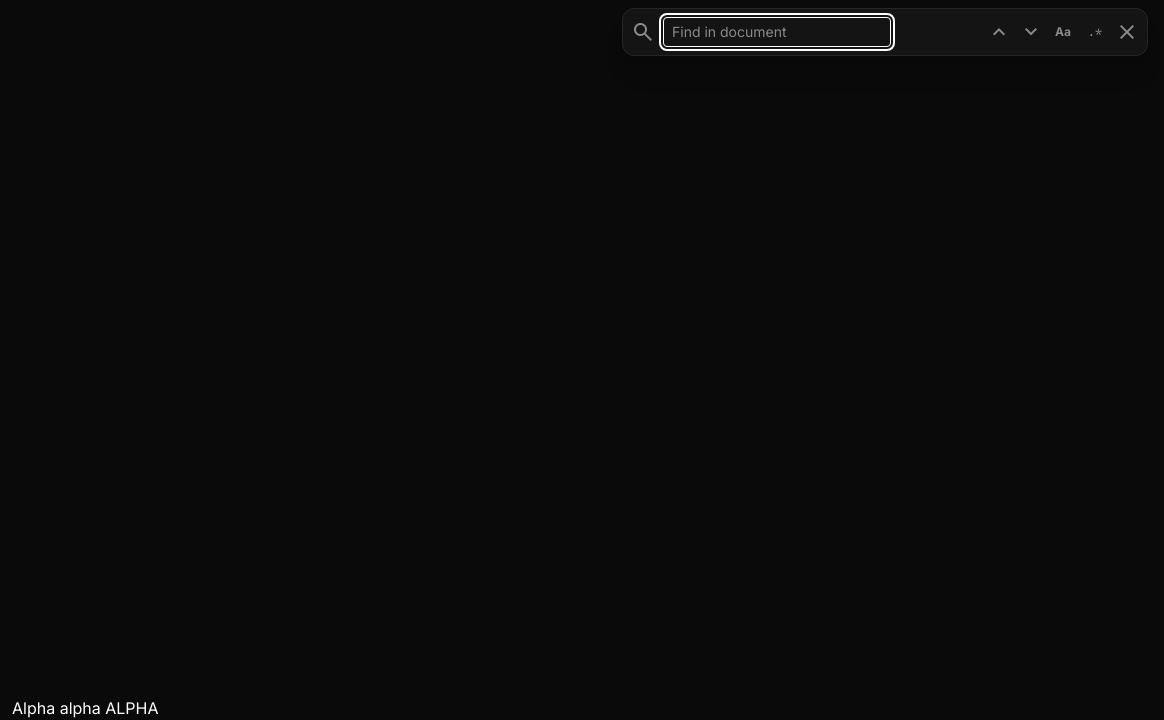
Scenario: PreviewFindBar options › treats the query as a pattern when Regex is pressed
The image size is (1164, 720).
Step 1. Type "\\d+" into the field labelled "Find in document" → (777, 32), box [663, 17, 891, 47]
Wait 200 ms
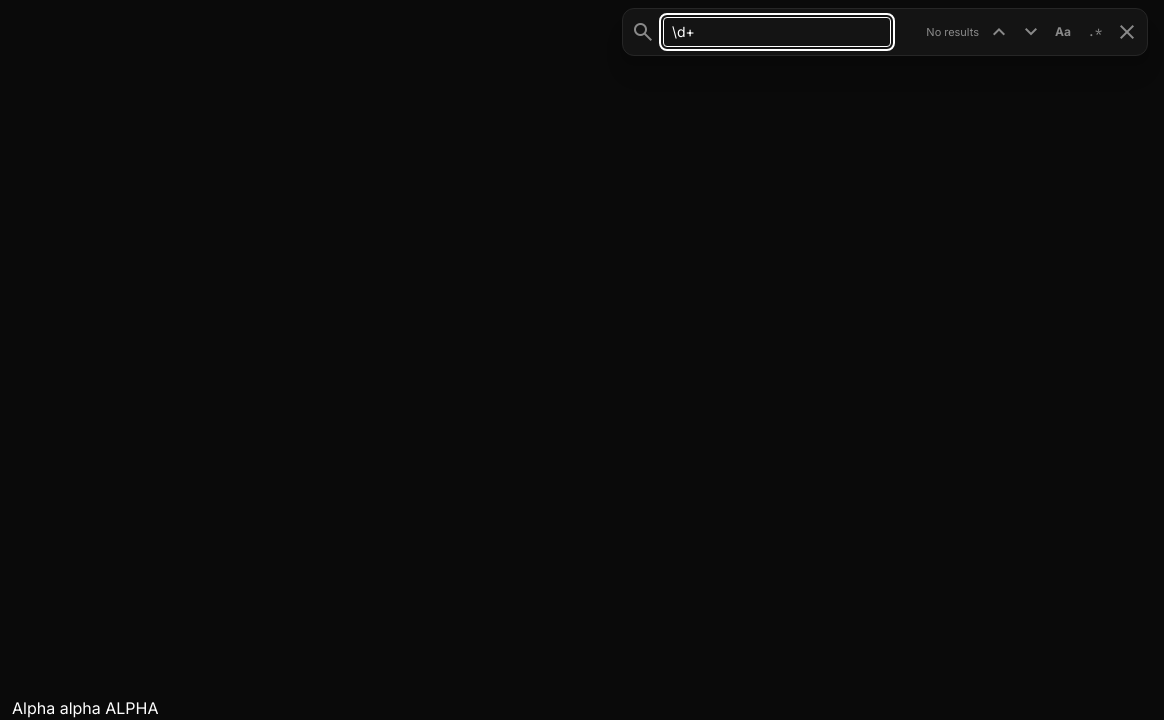
Now the element showing "No results Aa .*" is shown, box [622, 8, 1148, 56]
Step 2. Click the button named "Regex" → (1095, 32), box [1083, 20, 1107, 44]
Wait 200 ms
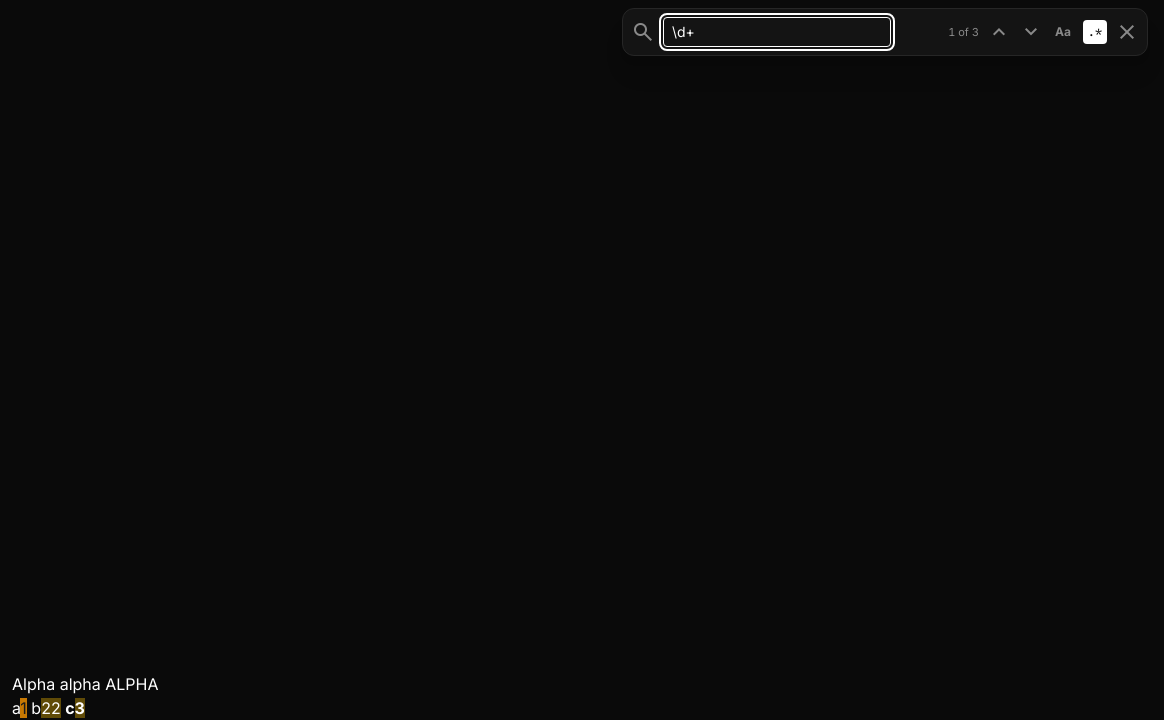
Now the element showing "1 of 3 Aa .*" is shown, box [622, 8, 1148, 56]
